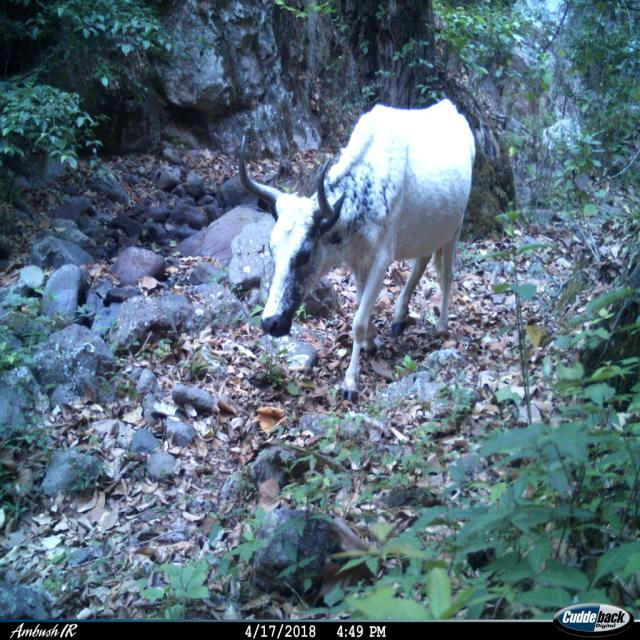COW: (239, 99, 475, 399)
